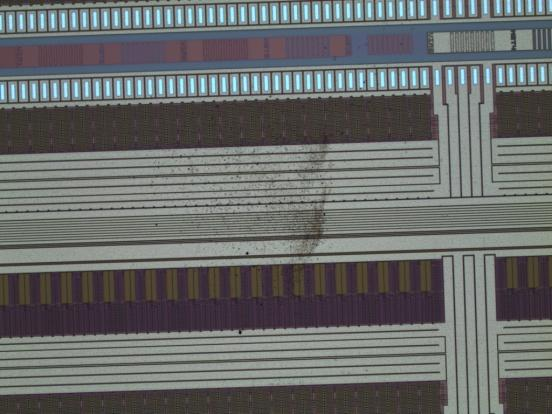PO CONTAMINATION: (122, 110, 353, 339)
